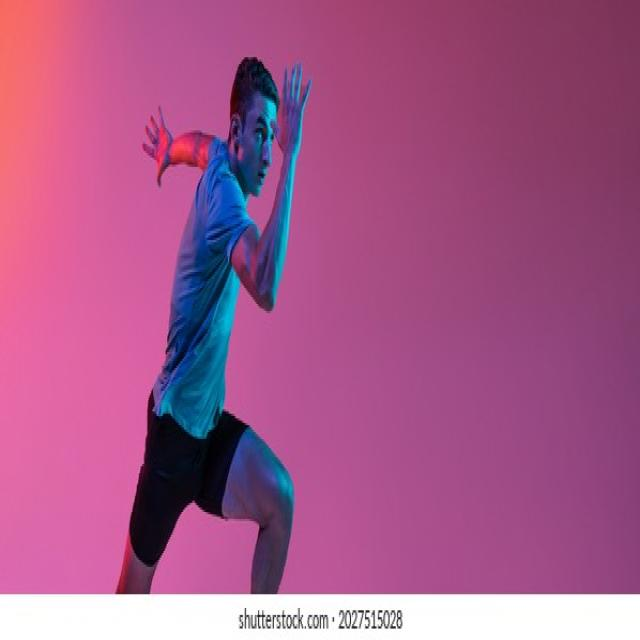running: (114, 48, 315, 594)
